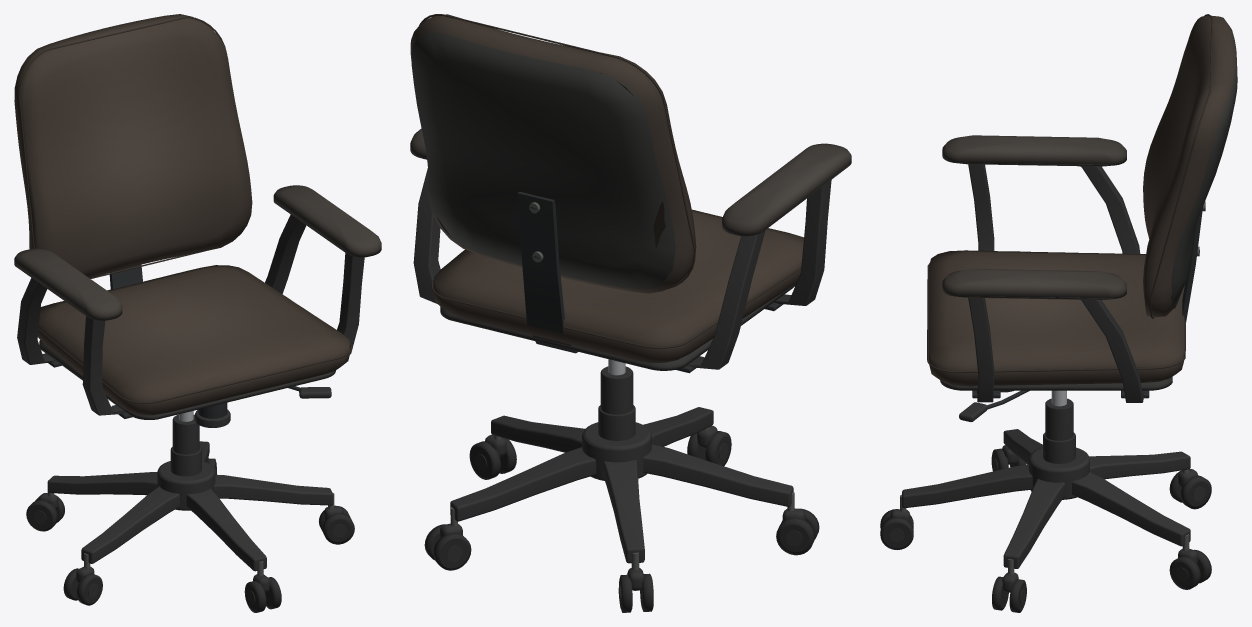
The model's file is OfficeChair_SeparateCandidate_LOD0.fbx.
3 renders of one model, left to right at view 1: azimuth 30°, elevation 25°; view 2: azimuth 150°, elevation 25°; view 3: azimuth 270°, elevation 25°, orthographic. The views are drawn at different scales.
Visible parts, largest first — view 1: UpperSwivel_LOD0, Base_LOD0, CasterSwivel_5_LOD0, CasterSwivel_1_LOD0, CasterSwivel_2_LOD0, CasterSwivel_4_LOD0; view 2: UpperSwivel_LOD0, Base_LOD0, CasterSwivel_3_LOD0, CasterSwivel_5_LOD0, CasterSwivel_2_LOD0, CasterSwivel_4_LOD0, CasterSwivel_1_LOD0; view 3: UpperSwivel_LOD0, Base_LOD0, CasterSwivel_3_LOD0, CasterSwivel_4_LOD0, CasterSwivel_1_LOD0, CasterSwivel_2_LOD0, CasterSwivel_5_LOD0.
Part boxes in pixels (x1,y1,x2,y2): UpperSwivel_LOD0: [14, 14, 381, 427]; Base_LOD0: [47, 414, 333, 571]; CasterSwivel_5_LOD0: [63, 553, 102, 605]; CasterSwivel_1_LOD0: [244, 561, 281, 612]; CasterSwivel_2_LOD0: [318, 493, 354, 544]; CasterSwivel_4_LOD0: [26, 492, 64, 531]; UpperSwivel_LOD0: [410, 14, 851, 375]; Base_LOD0: [450, 366, 793, 563]; CasterSwivel_3_LOD0: [424, 507, 471, 570]; CasterSwivel_5_LOD0: [776, 492, 819, 555]; CasterSwivel_2_LOD0: [469, 434, 516, 479]; CasterSwivel_4_LOD0: [618, 552, 653, 612]; CasterSwivel_1_LOD0: [687, 425, 731, 466]; UpperSwivel_LOD0: [927, 14, 1237, 421]; Base_LOD0: [902, 398, 1190, 568]; CasterSwivel_3_LOD0: [1169, 534, 1211, 589]; CasterSwivel_4_LOD0: [1169, 469, 1211, 509]; CasterSwivel_1_LOD0: [880, 494, 913, 549]; CasterSwivel_2_LOD0: [992, 559, 1026, 612]; CasterSwivel_5_LOD0: [991, 445, 1026, 471].
Size of the model in its own units: 0.6512 by 0.9916 by 0.6514.
